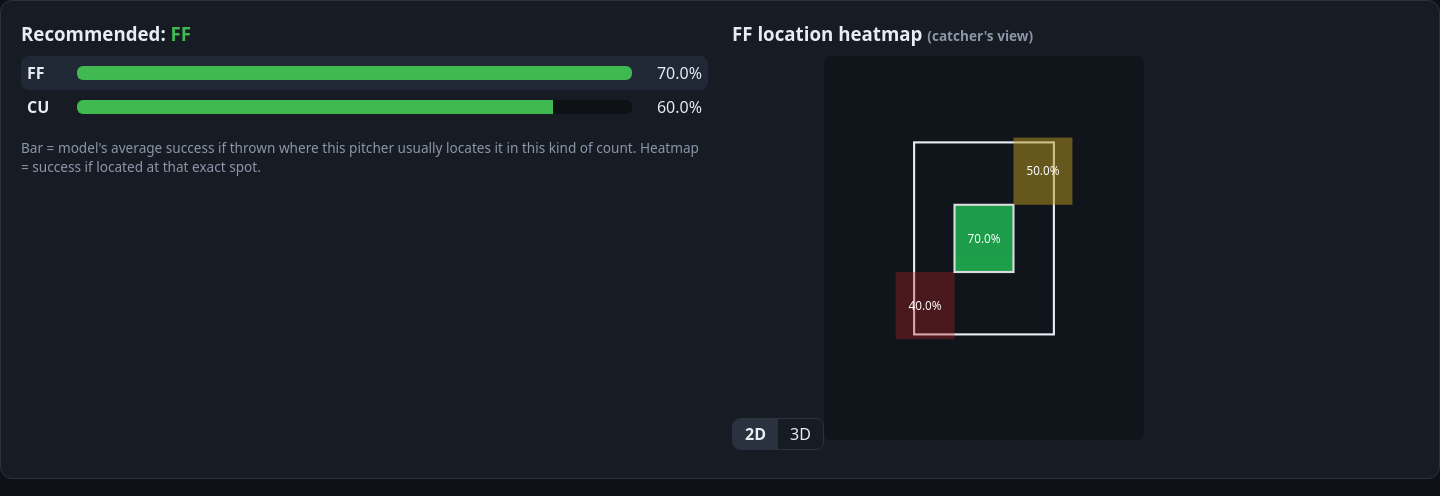
Results › recommends the top pitch and switches the heatmap when another bar is clicked
The width and height of the screenshot is (1440, 496).
Expected: the text "FF" next to "Recommended:" is shown, [171, 21, 191, 46]
Expected: the heading "FF location heatmap (catcher's view)" is shown, [732, 21, 1033, 46]
Step 1. Click the text "CU" → (38, 107), box [27, 96, 49, 118]
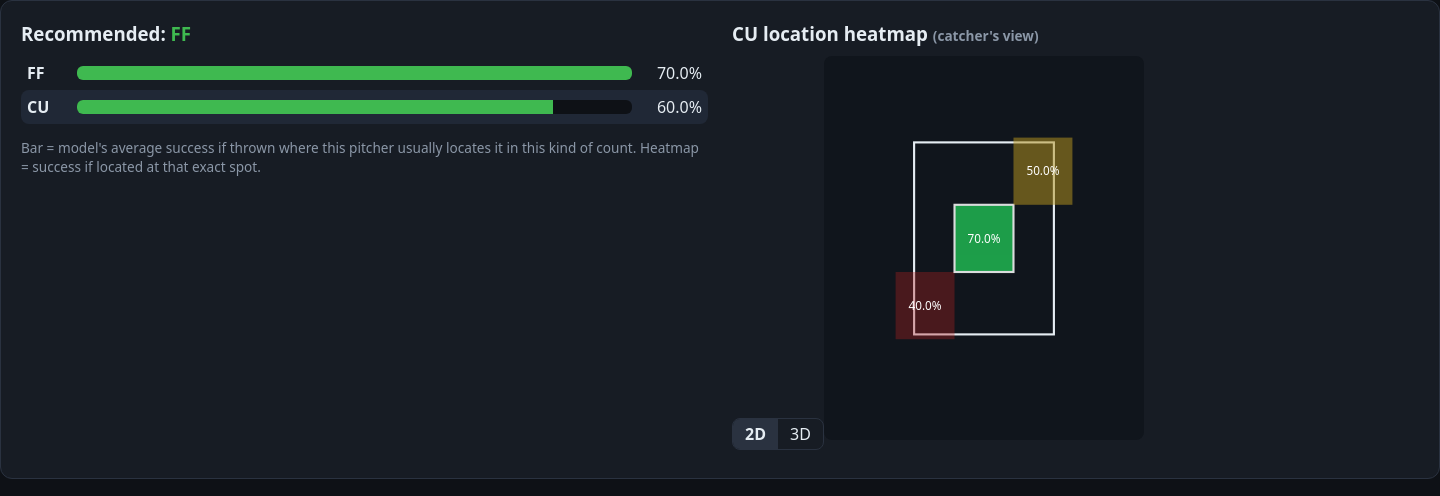
Now the heading "CU location heatmap (catcher's view)" is shown, box [732, 21, 1039, 46]
